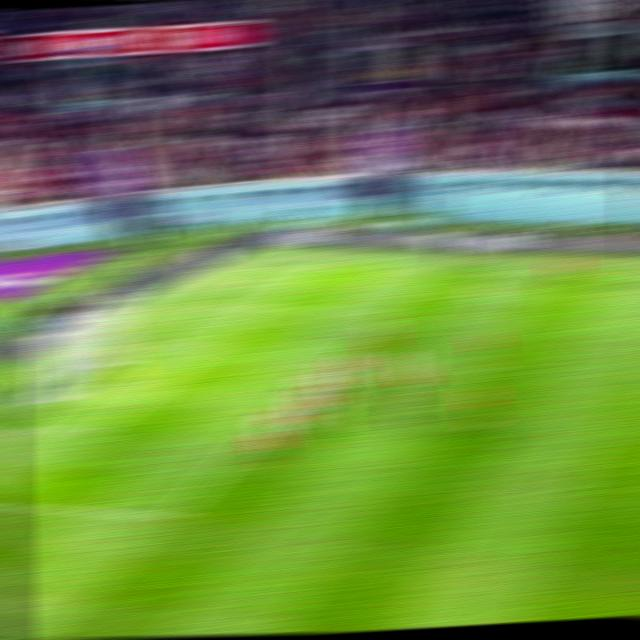bigarea_bottom_inner: (150, 503, 188, 530)
bigarea_top_inner: (369, 304, 402, 320)
bigarea_top_outter: (196, 296, 228, 311)
corner: (257, 259, 288, 271)
smallarea_bottom_inner: (78, 419, 113, 442)
smallarea_bottom_outter: (6, 416, 40, 436)
smallarea_top_inner: (195, 337, 228, 353)
smallarea_top_outter: (139, 334, 172, 349)
